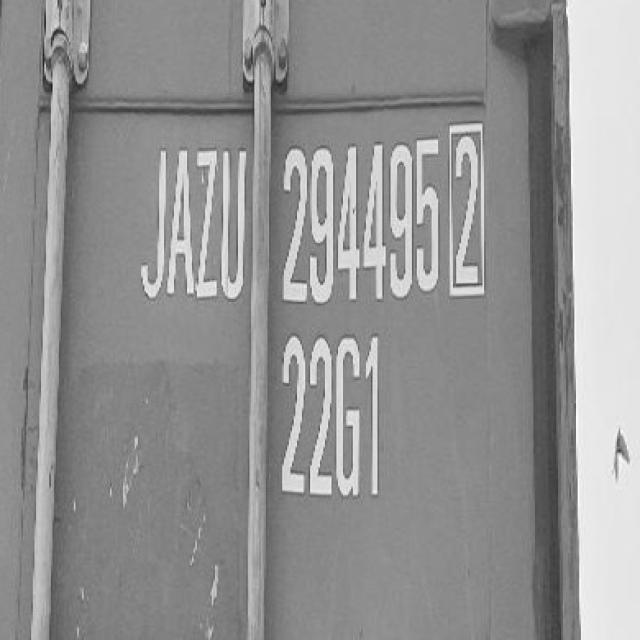dv: (446, 114, 493, 305)
owner: (116, 136, 250, 318)
serial: (277, 138, 442, 312)
size: (268, 326, 412, 510)
